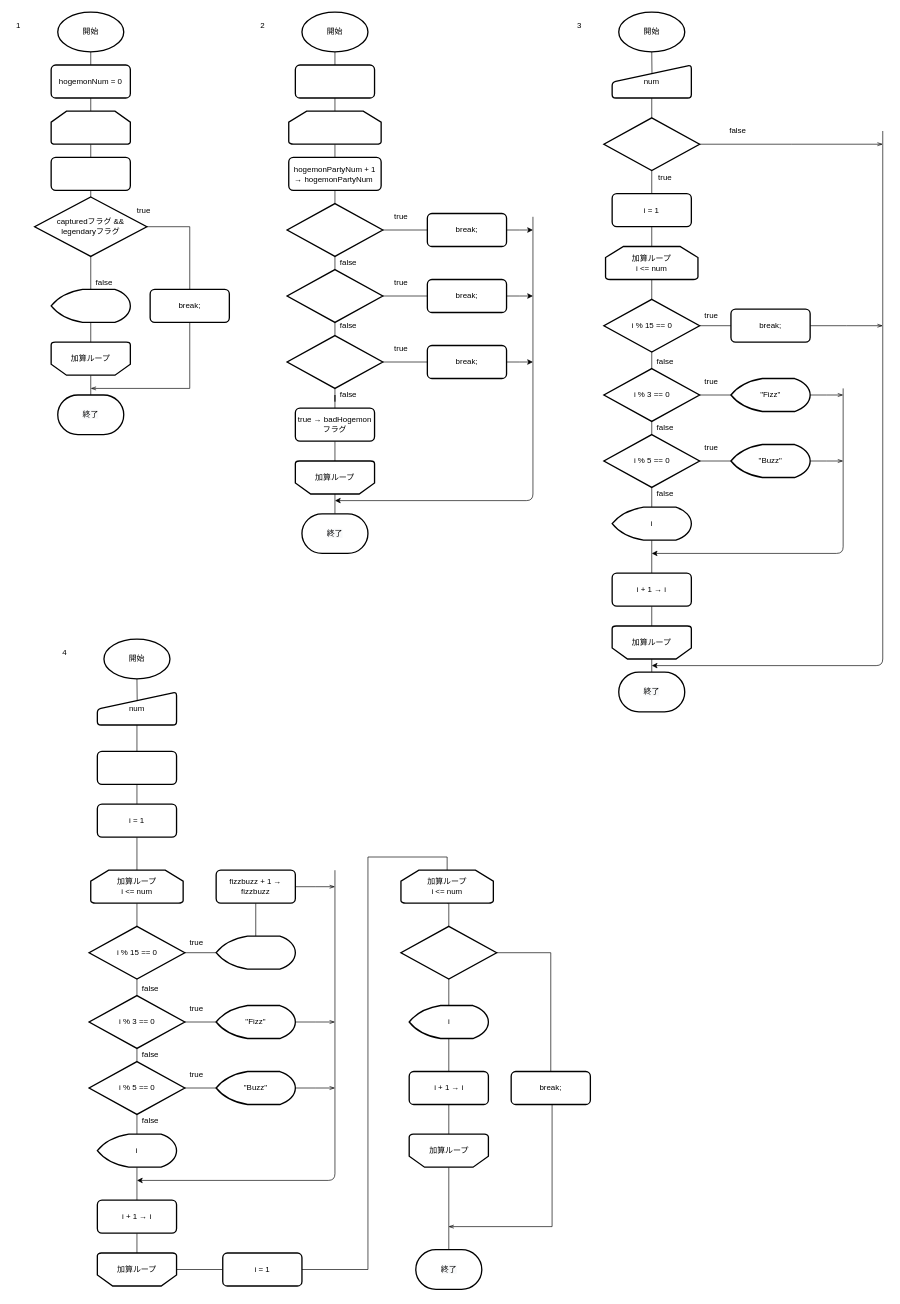
This 900x1304 diagram has some shape labels left out. The shapes that lost their labels are listed below. From the top down, each one's centre as x and y in pixels, then its label:
(x=334, y=81): hogemonPartyNum = 0
(x=90, y=127): 加算ループ hogemonNum < 156
(x=334, y=127): 加算ループ hogemonPartyNum < 8
(x=651, y=144): 3 <= num && num <= 100
(x=90, y=173): hogemonNum + 1 → hogemonNum
(x=334, y=230): hogemonLevel >= 70
(x=90, y=305): hogemonNum
(x=334, y=296): legendaryフラグ
(x=334, y=362): hogemonHP >= 200
(x=136, y=767): 0 → fizzbuzz
(x=255, y=952): "FizzBuzz"
(x=448, y=952): i * fizzbuzz >= 50
